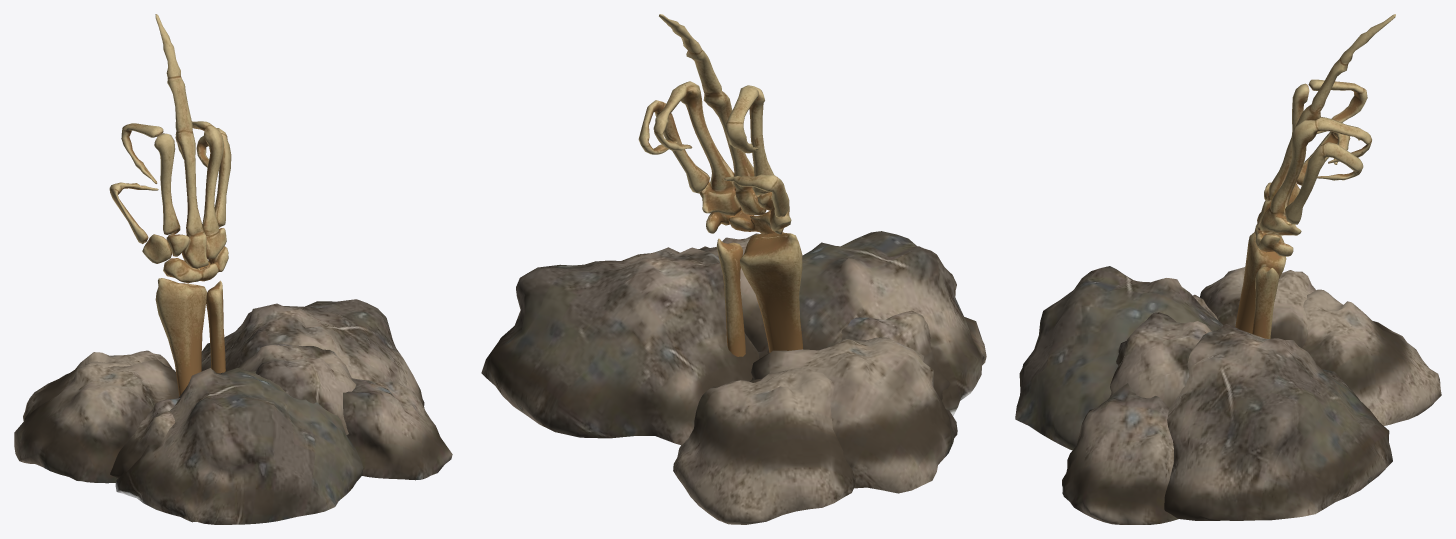
File: graveyard.glb
3 renders of one model, left to right at view 1: azimuth 30°, elevation 25°; view 2: azimuth 150°, elevation 25°; view 3: azimuth 270°, elevation 25°, orthographic. The views are drawn at different scales.
Visible parts, largest first — view 1: Object_3; view 2: Object_3; view 3: Object_3.
Part boxes in pixels (x1,y1,x2,y2): Object_3: (14,14,452,524); Object_3: (481,14,986,524); Object_3: (1015,14,1441,524).
Bounding box in the file's own units: 49.77 × 50.17 × 45.46.
Materials: 2 (1 with a texture image).
